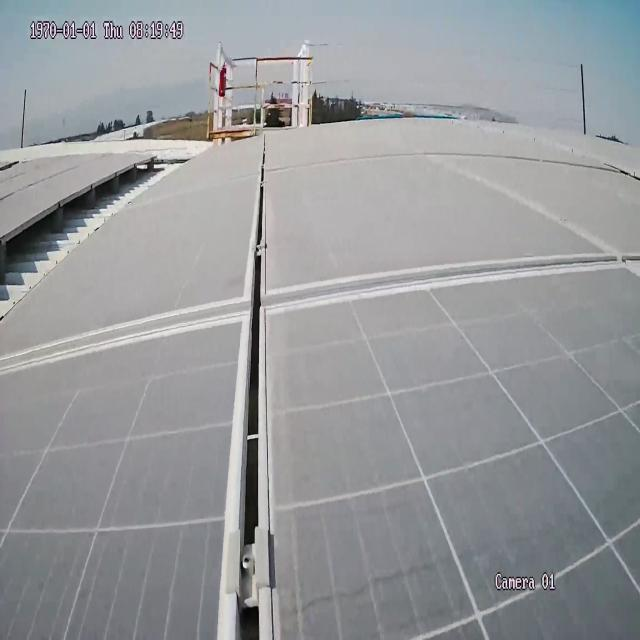interior panel: (0, 133, 632, 639)
outher panel: (0, 151, 202, 330)
